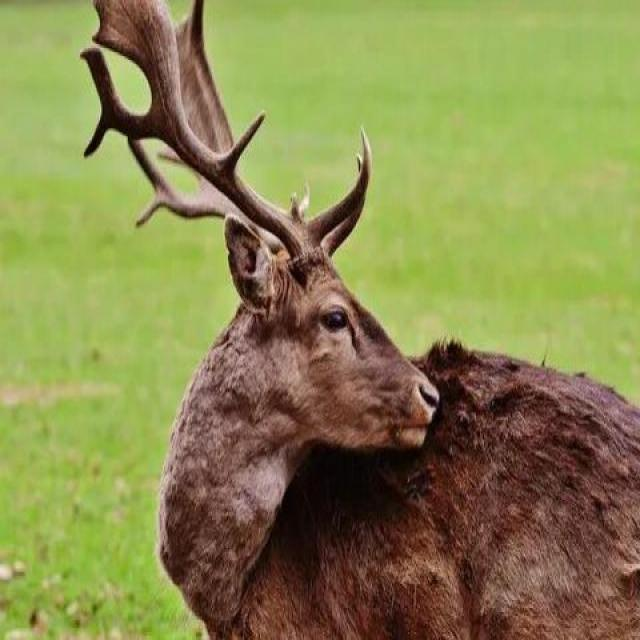deer: (130, 71, 497, 589)
